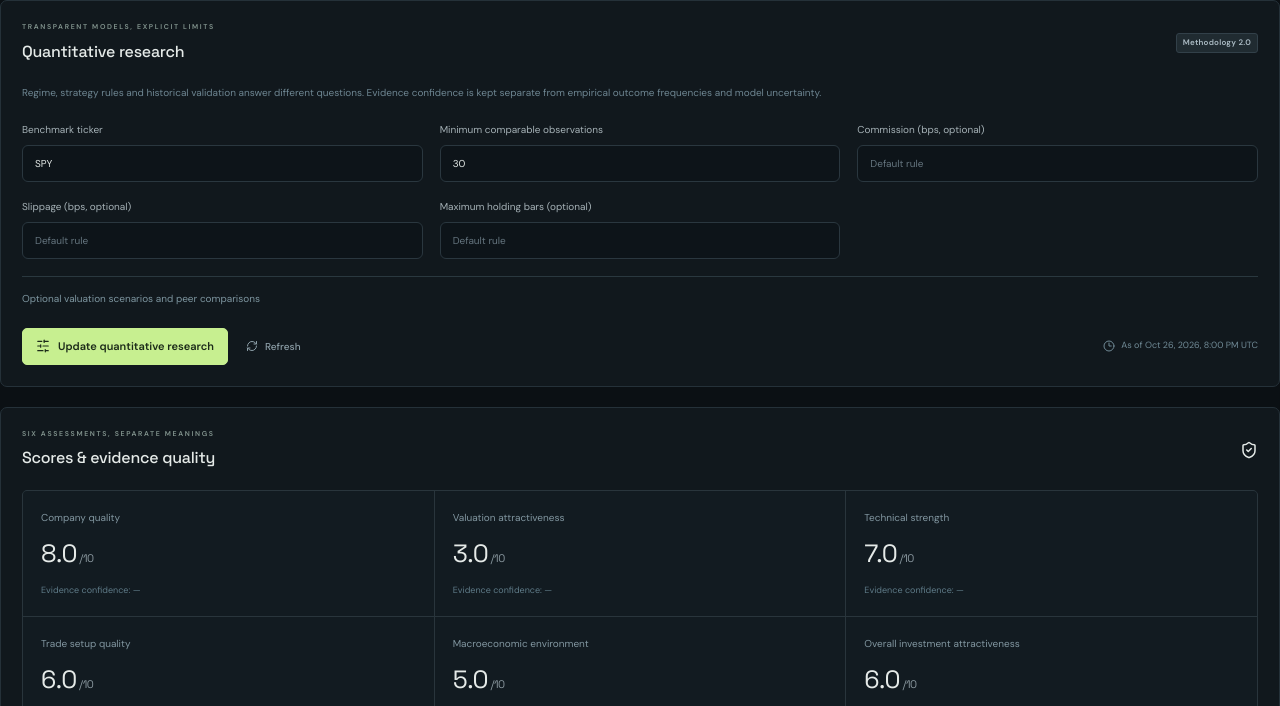
quantitative research display › rejects inverted valuation scenarios before making a request
The image size is (1280, 706).
Click the heading "Optional valuation scenarios and peer comparisons". click: (141, 298)
box: 22,292 -> 260,304
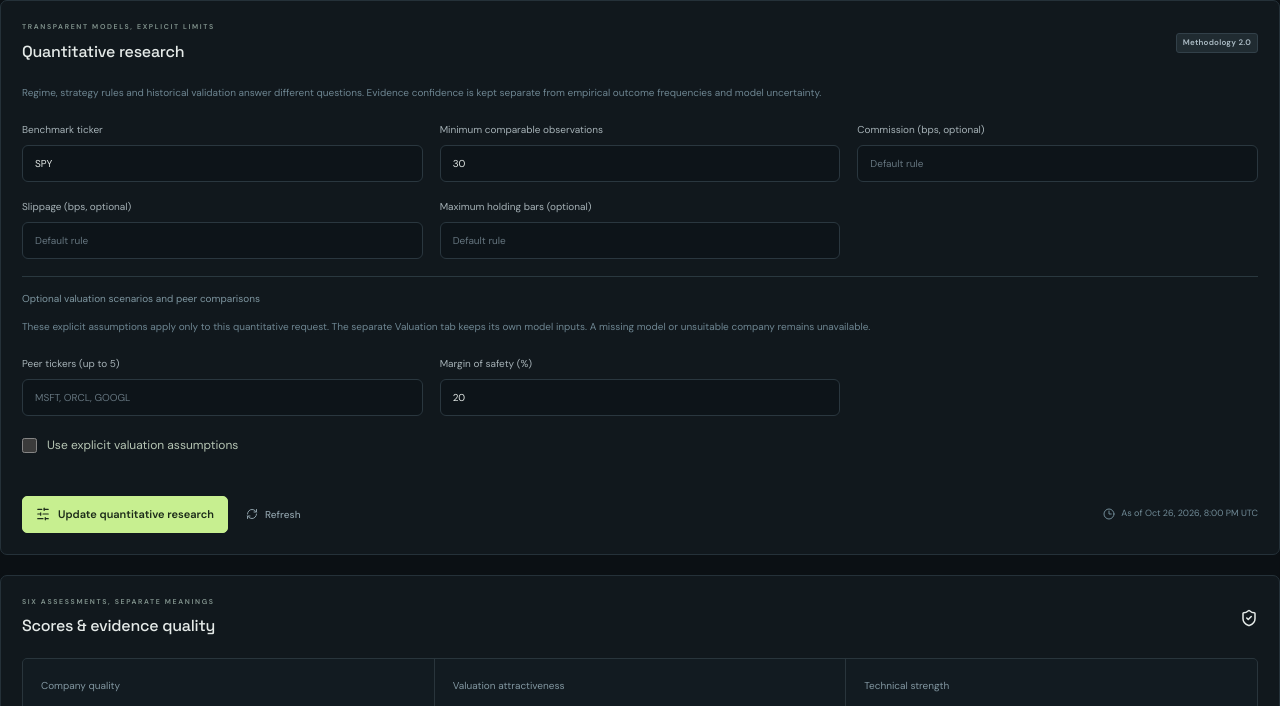
Click the checkbox labelled "Use explicit valuation assumptions". click: (30, 445)
box: 22,438 -> 37,452
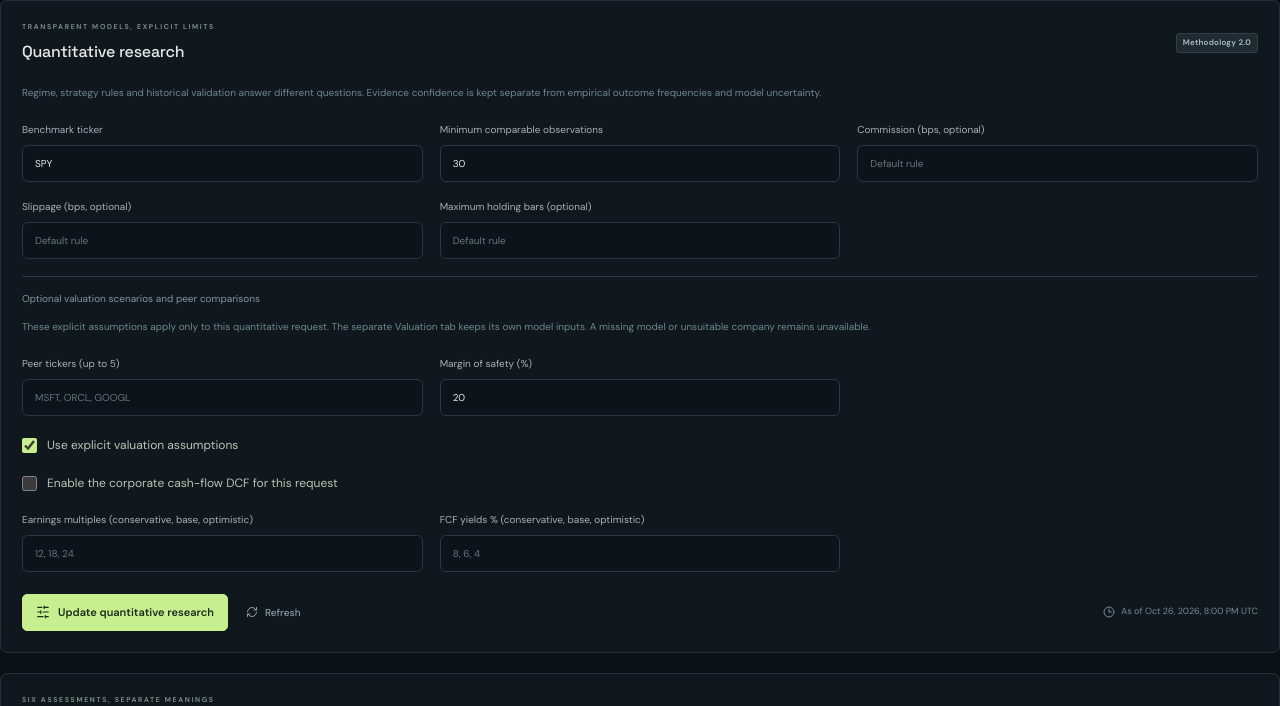
Type "24,18,12" into the field labelled "Earnings multiples (conservative, base, optimistic)". click: (222, 553)
box: 22,534 -> 423,572
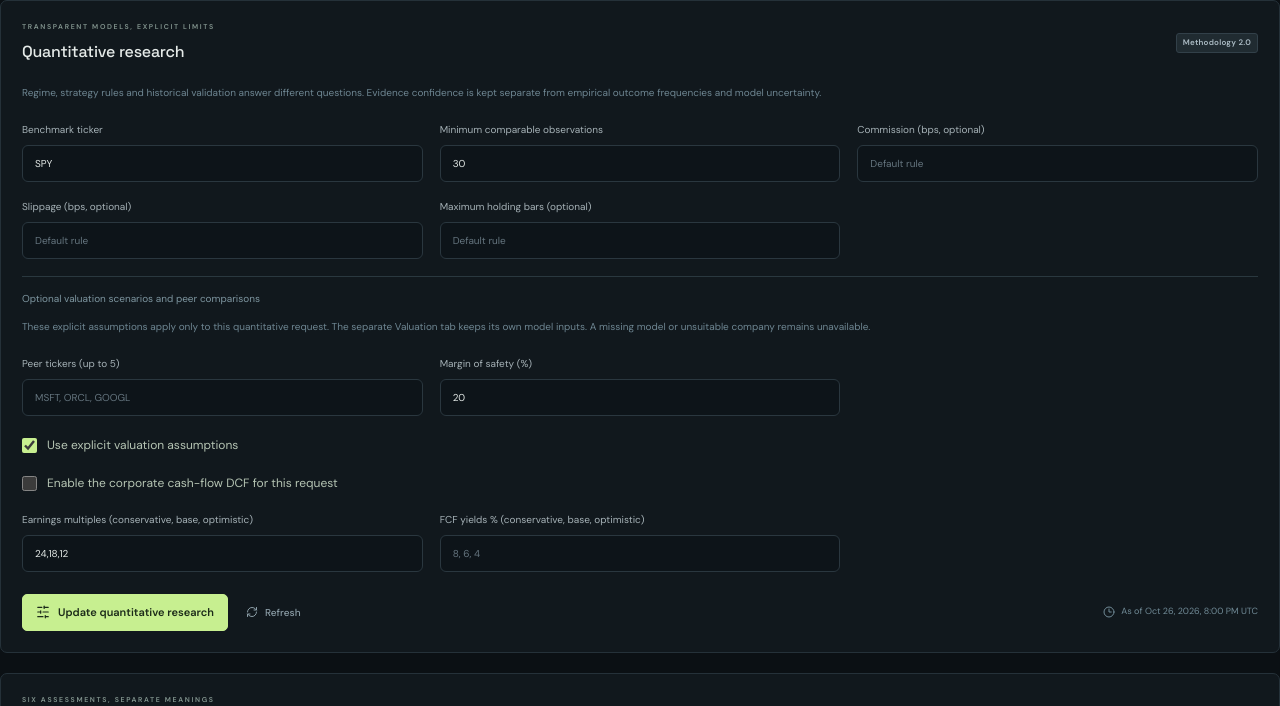
Click the button "Update quantitative research". click: (125, 612)
box: 22,594 -> 228,631
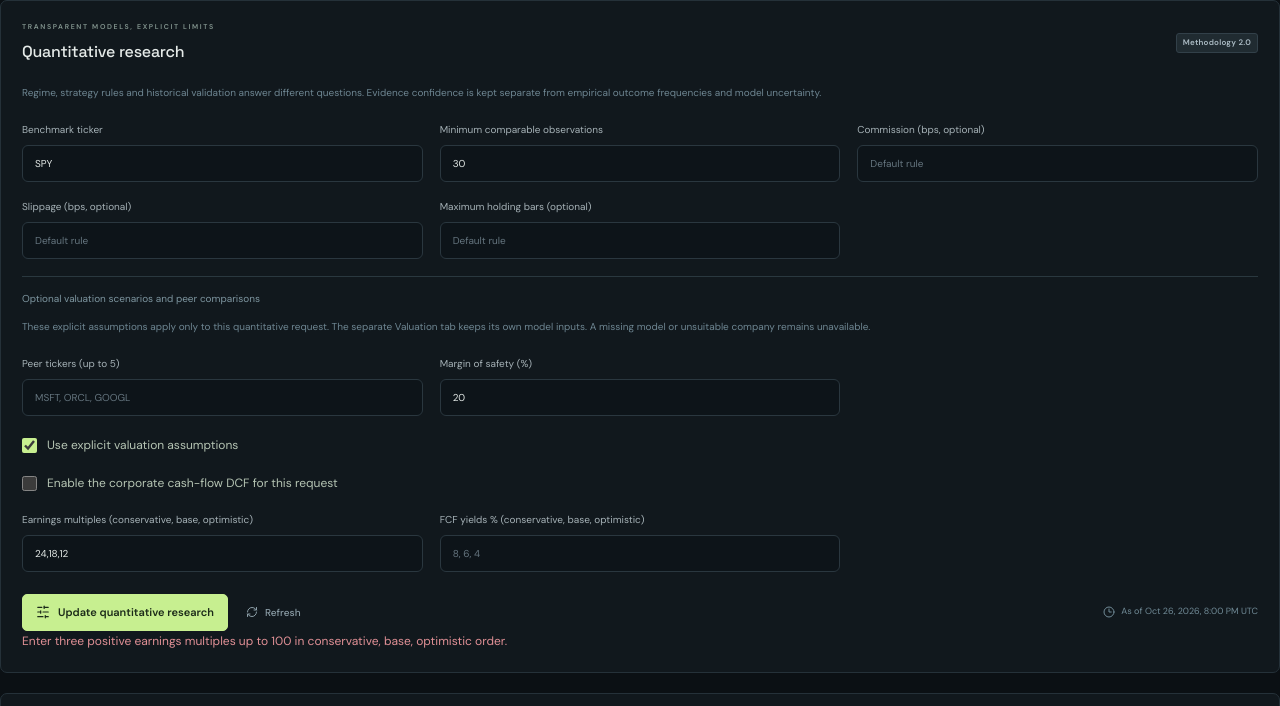
Expected: the message shows "positive earnings multiples", 22,633 -> 507,649
